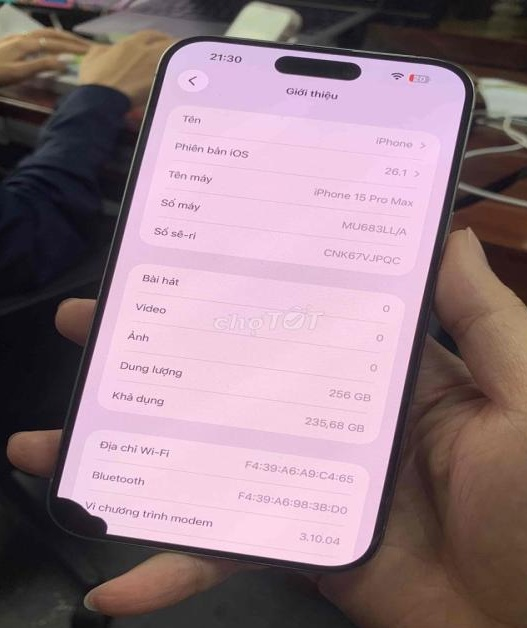screen_defect: (40, 494, 115, 541)
